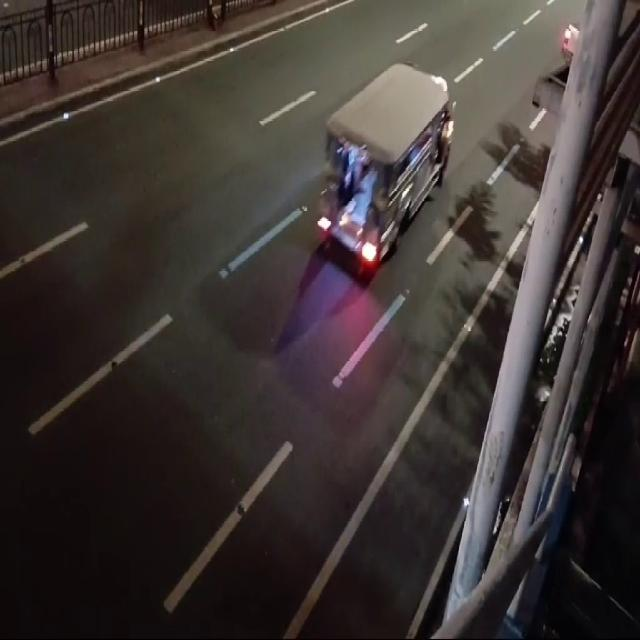jeepney: (322, 51, 449, 271)
